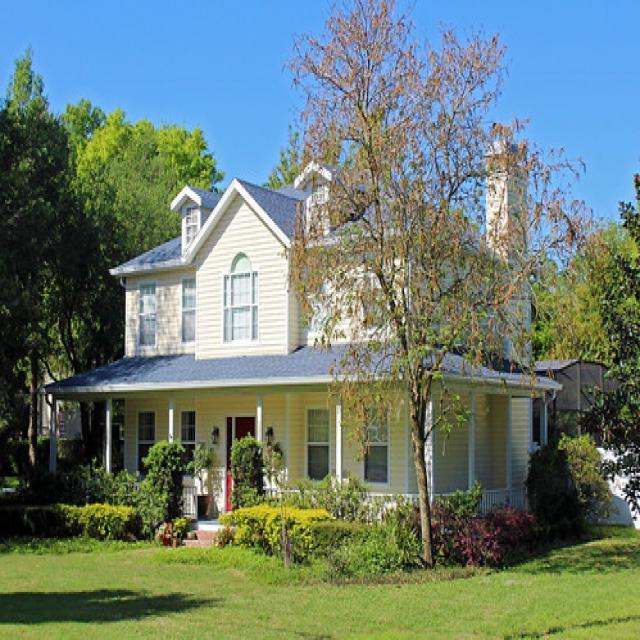Normal_building: (38, 124, 565, 554)
